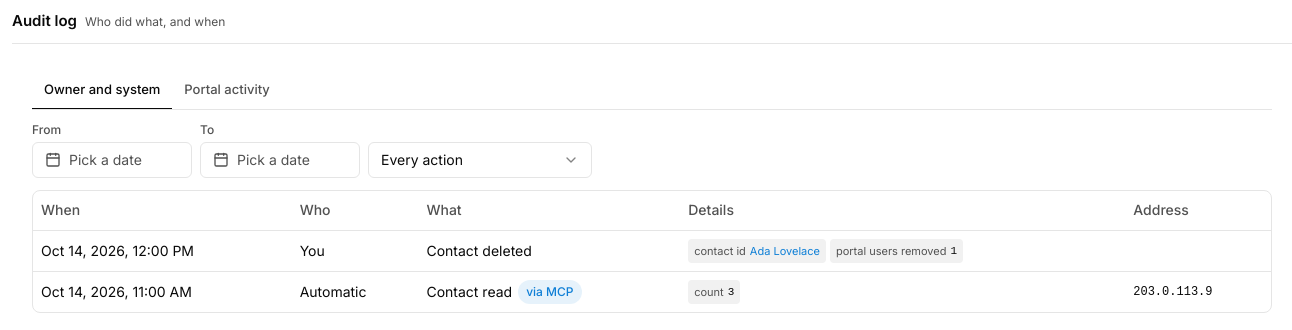
Audit log › shows portal activity on its own tab
Expected: the text "Contact deleted" is shown, [426,242,532,259]
Press the mouse on the tab "Portal activity": point(227, 91) [172,72,282,110]
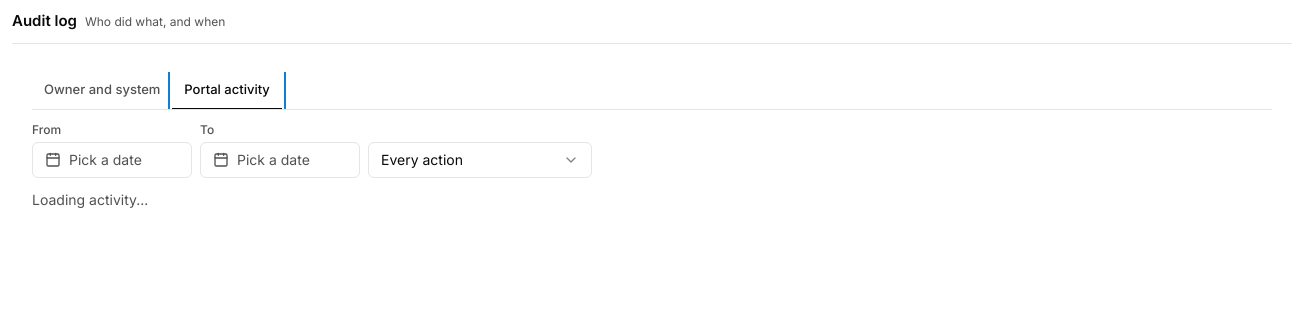
Click the tab "Portal activity": point(227, 91) [172,72,282,110]
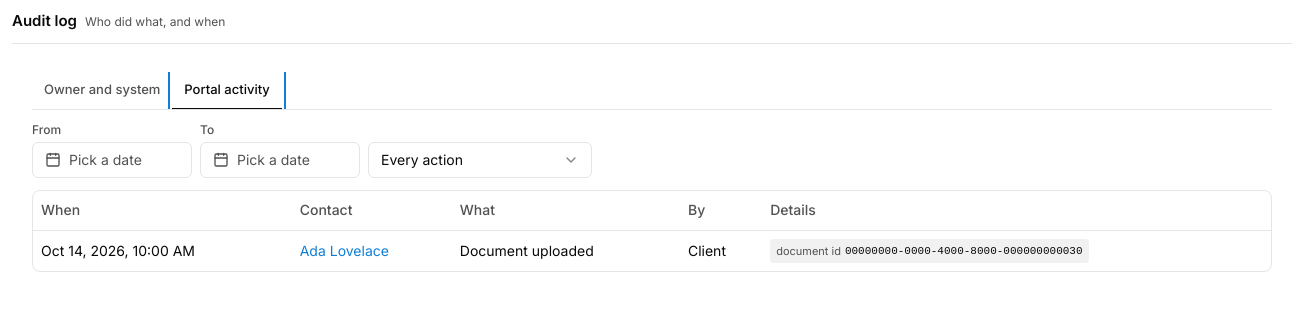
Now the text "Document uploaded" is shown, box [452,230,680,271]
Now the text "Client" is shown, box [680,230,762,271]
